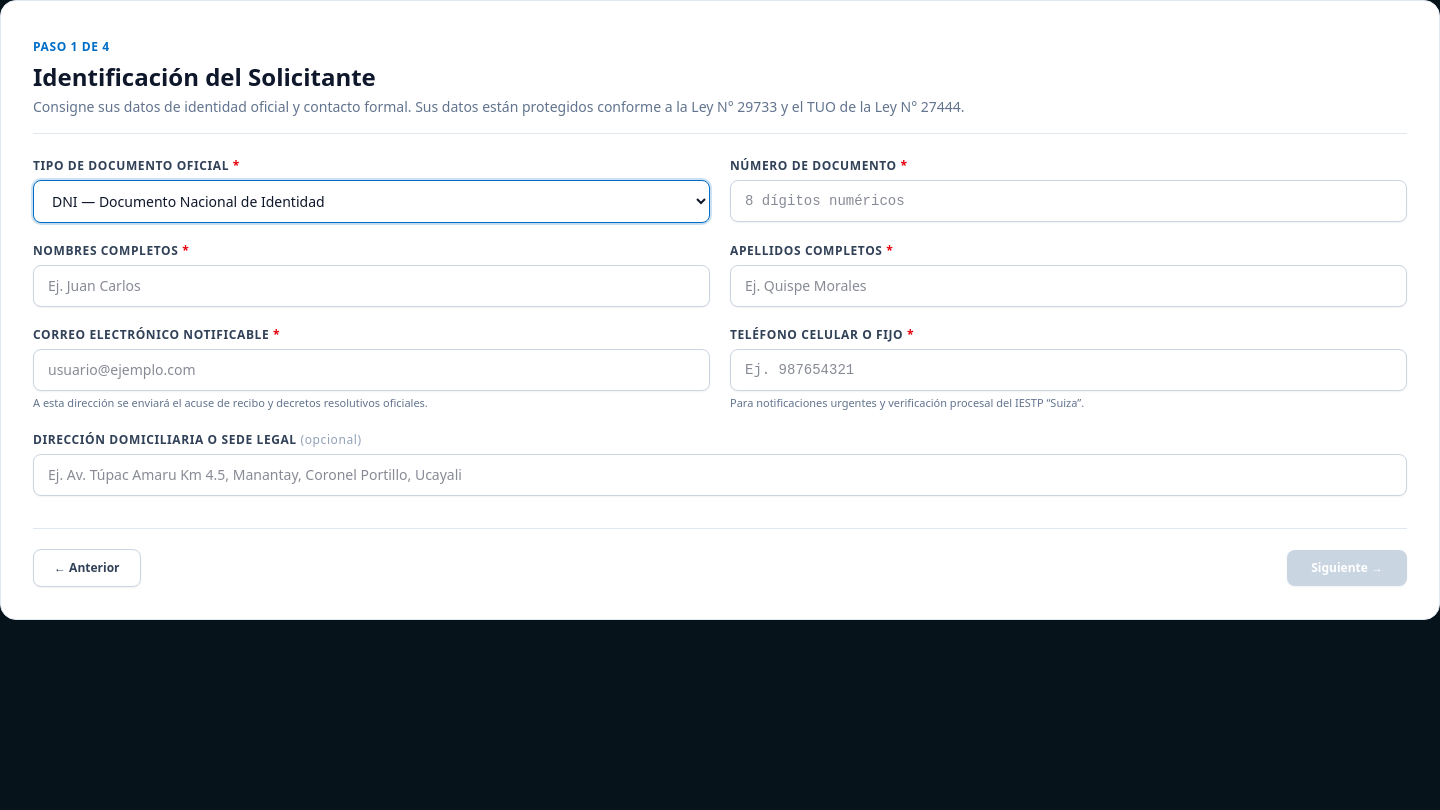
Test: T-FE-MPV-17: Pruebas de Integración de Componentes - TramiteWizard › Test 3: Avance exitoso al Paso 2 con datos de identificación completos
Type "74123456" into the field labelled "Número de Documento *" at (1068, 201), box [730,180,1407,222]
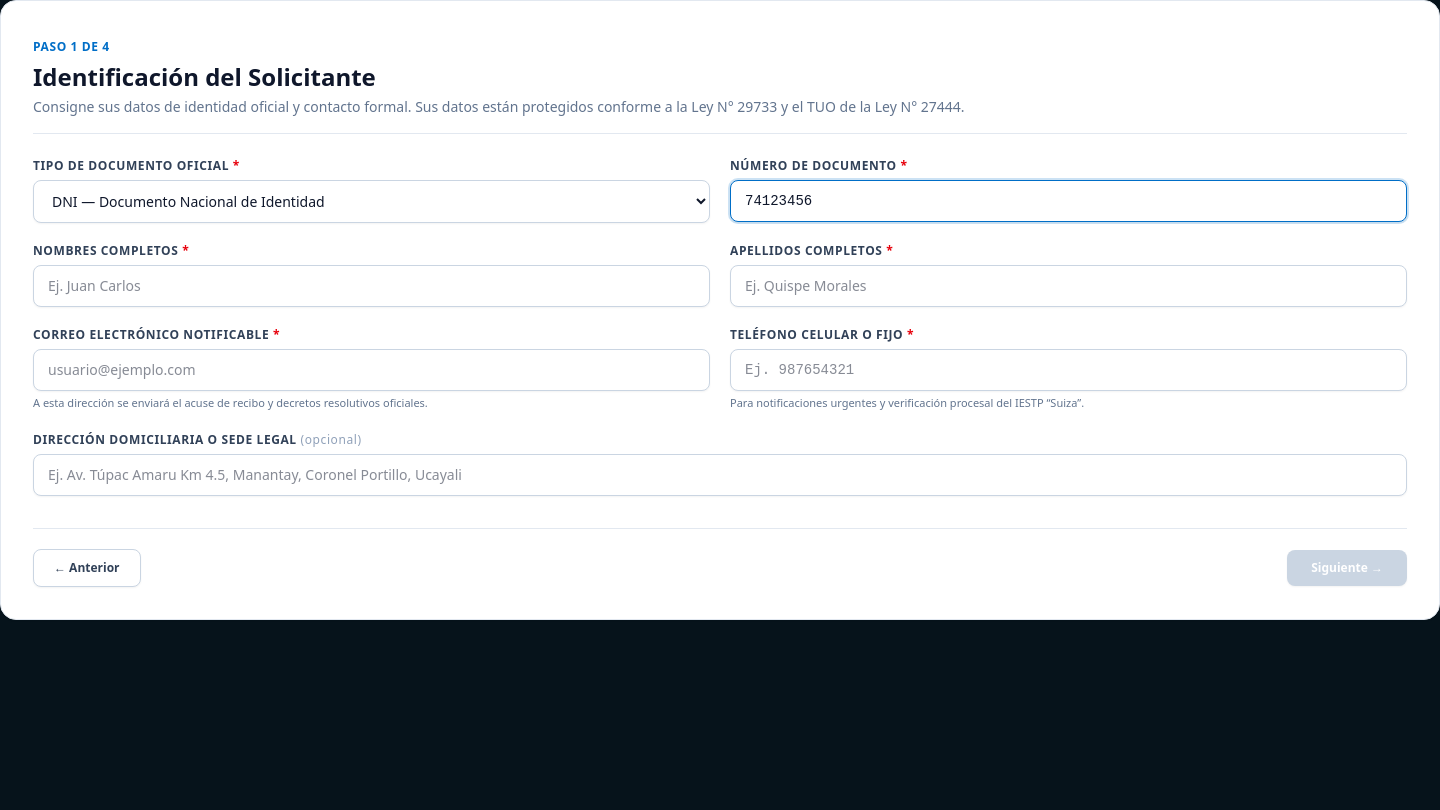
Type "María Elena" into the field labelled "Nombres Completos *" at (372, 286), box [33,265,710,307]
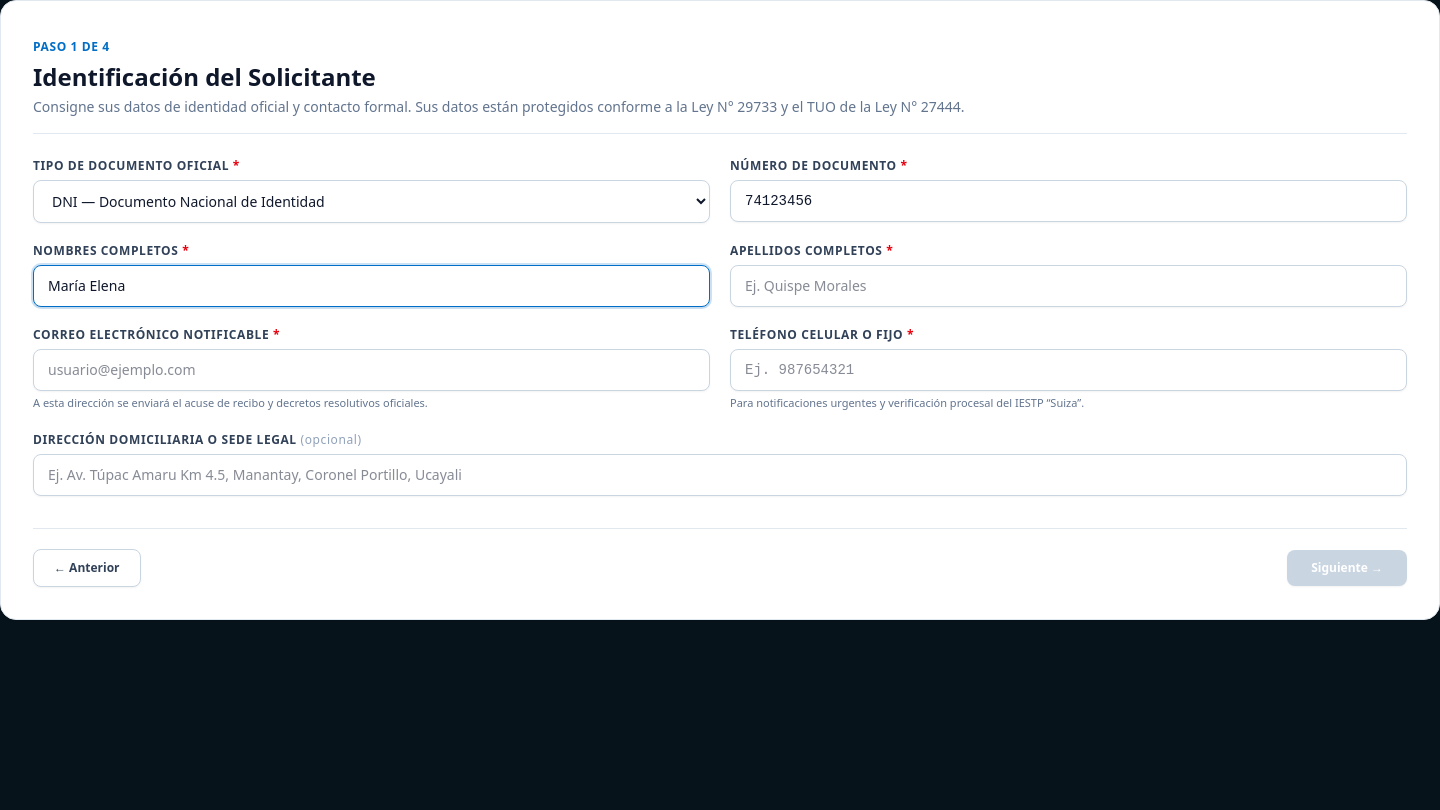
Type "Vargas Paredes" into the field labelled "Apellidos Completos *" at (1068, 286), box [730,265,1407,307]
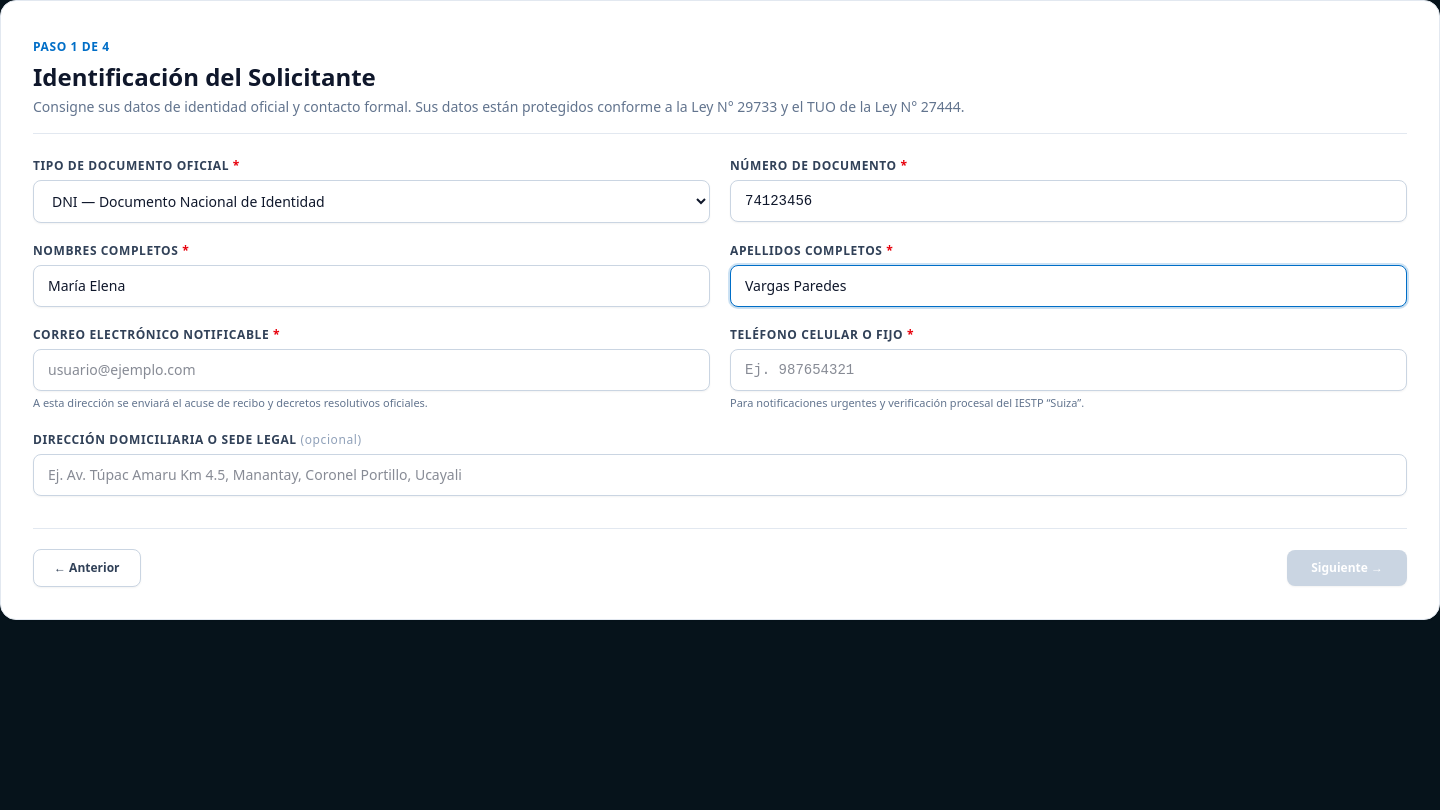
Type "maria.vargas@iestpsuiza.edu.pe" into the field labelled "Correo Electrónico Notificable *" at (372, 370), box [33,349,710,391]
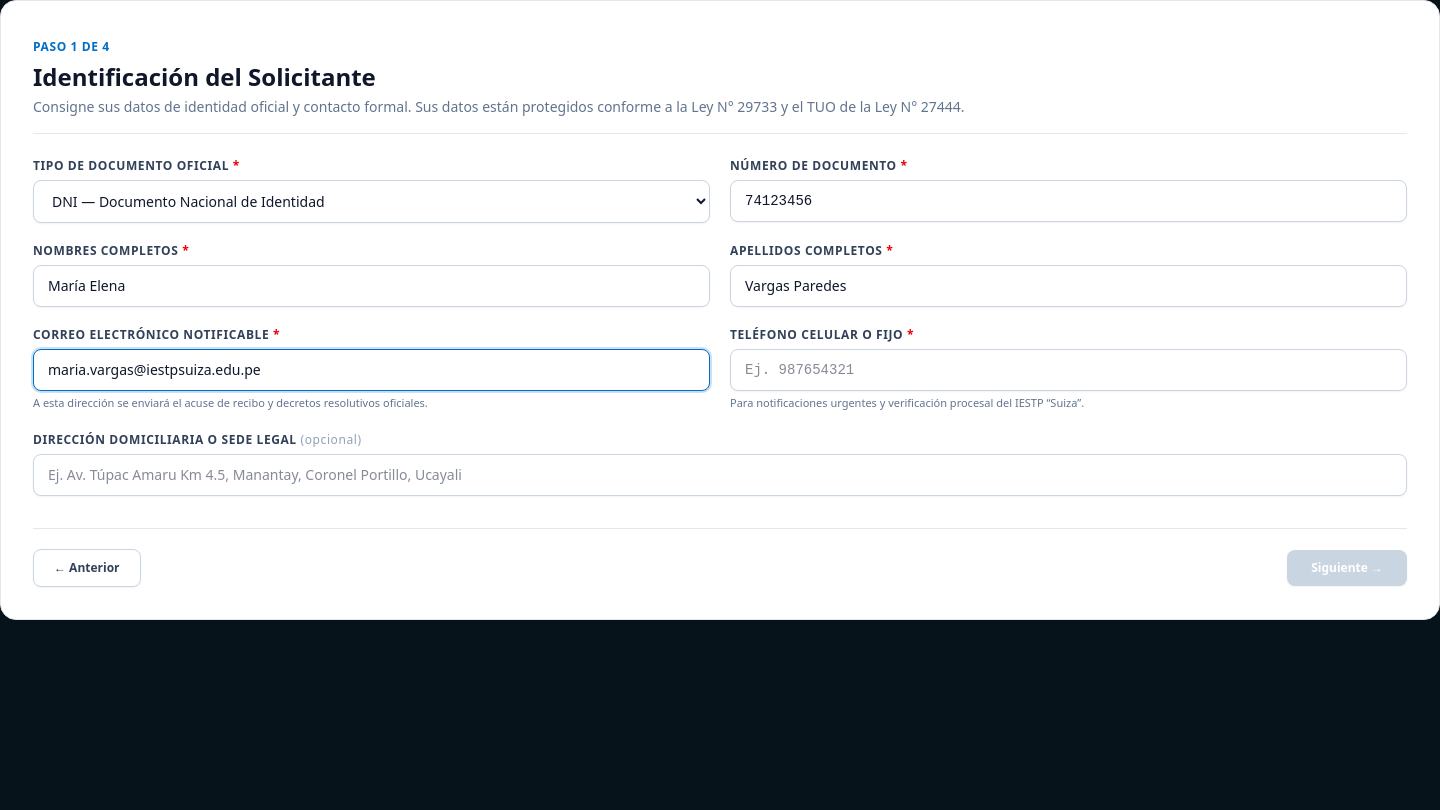
Type "961987654" into the field labelled "Teléfono Celular o Fijo *" at (1068, 370), box [730,349,1407,391]
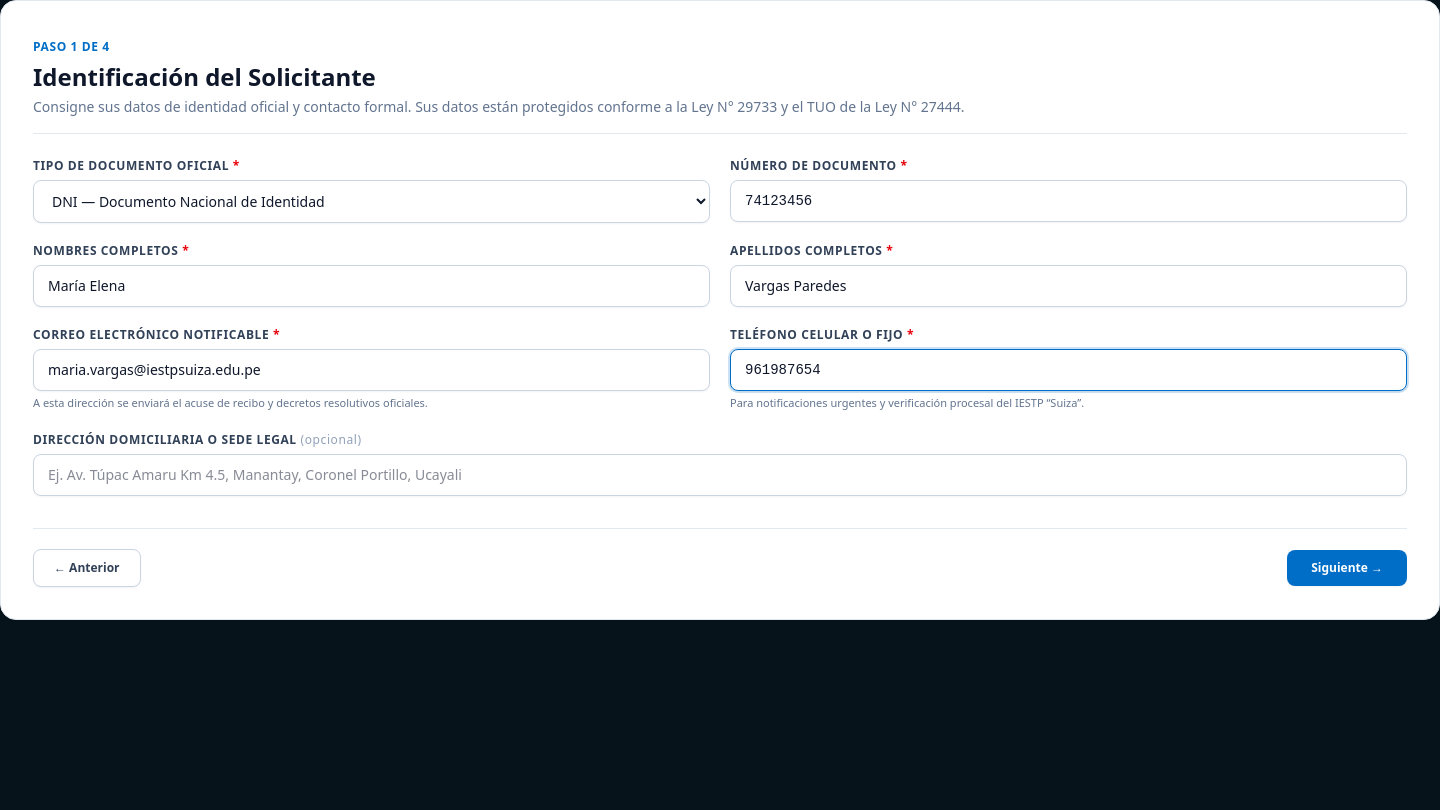
Now the button "Siguiente →" is enabled
Click the button "Siguiente →" at (1347, 568), box [1287,550,1407,586]
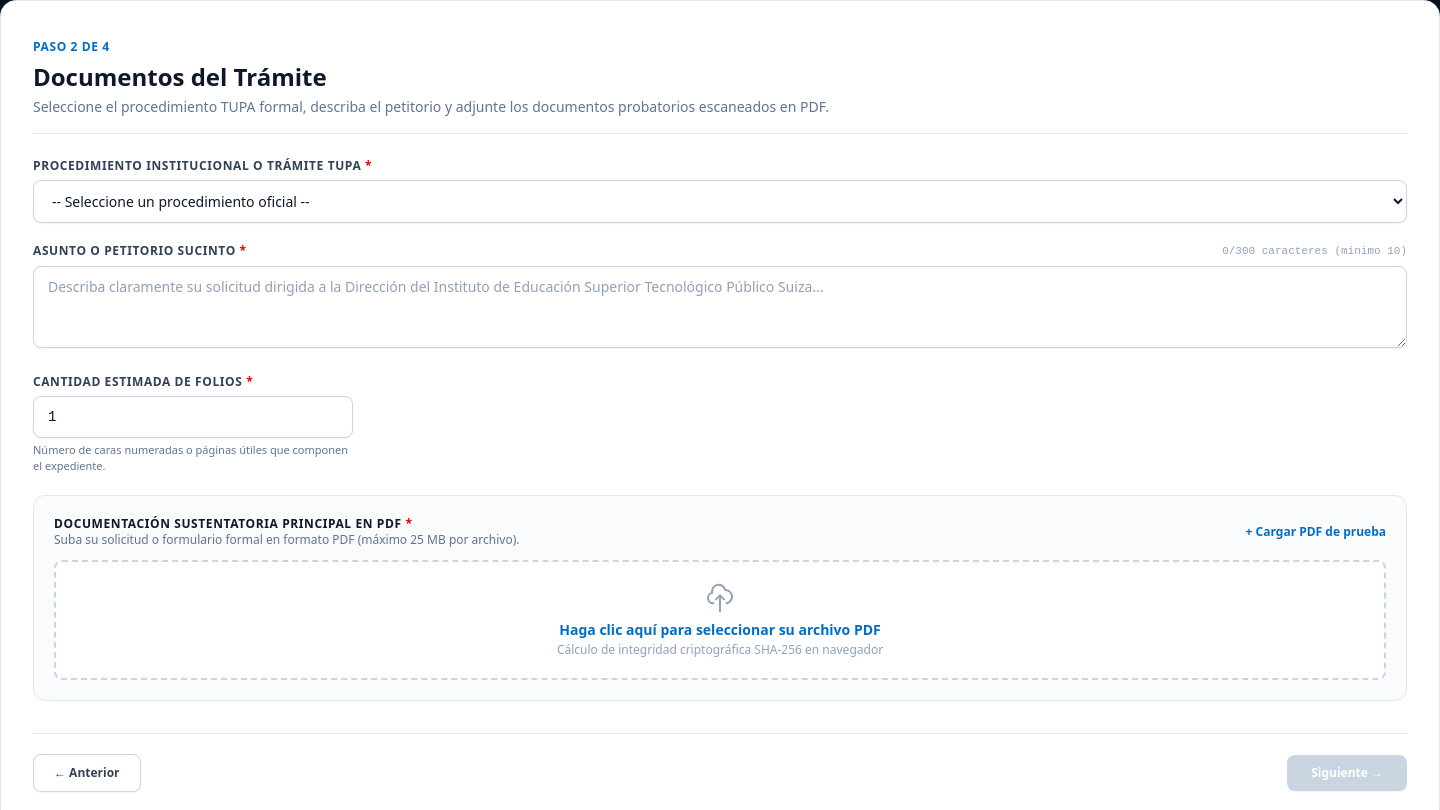
Now the heading "Documentos del Trámite" is shown, box [33,60,327,93]
